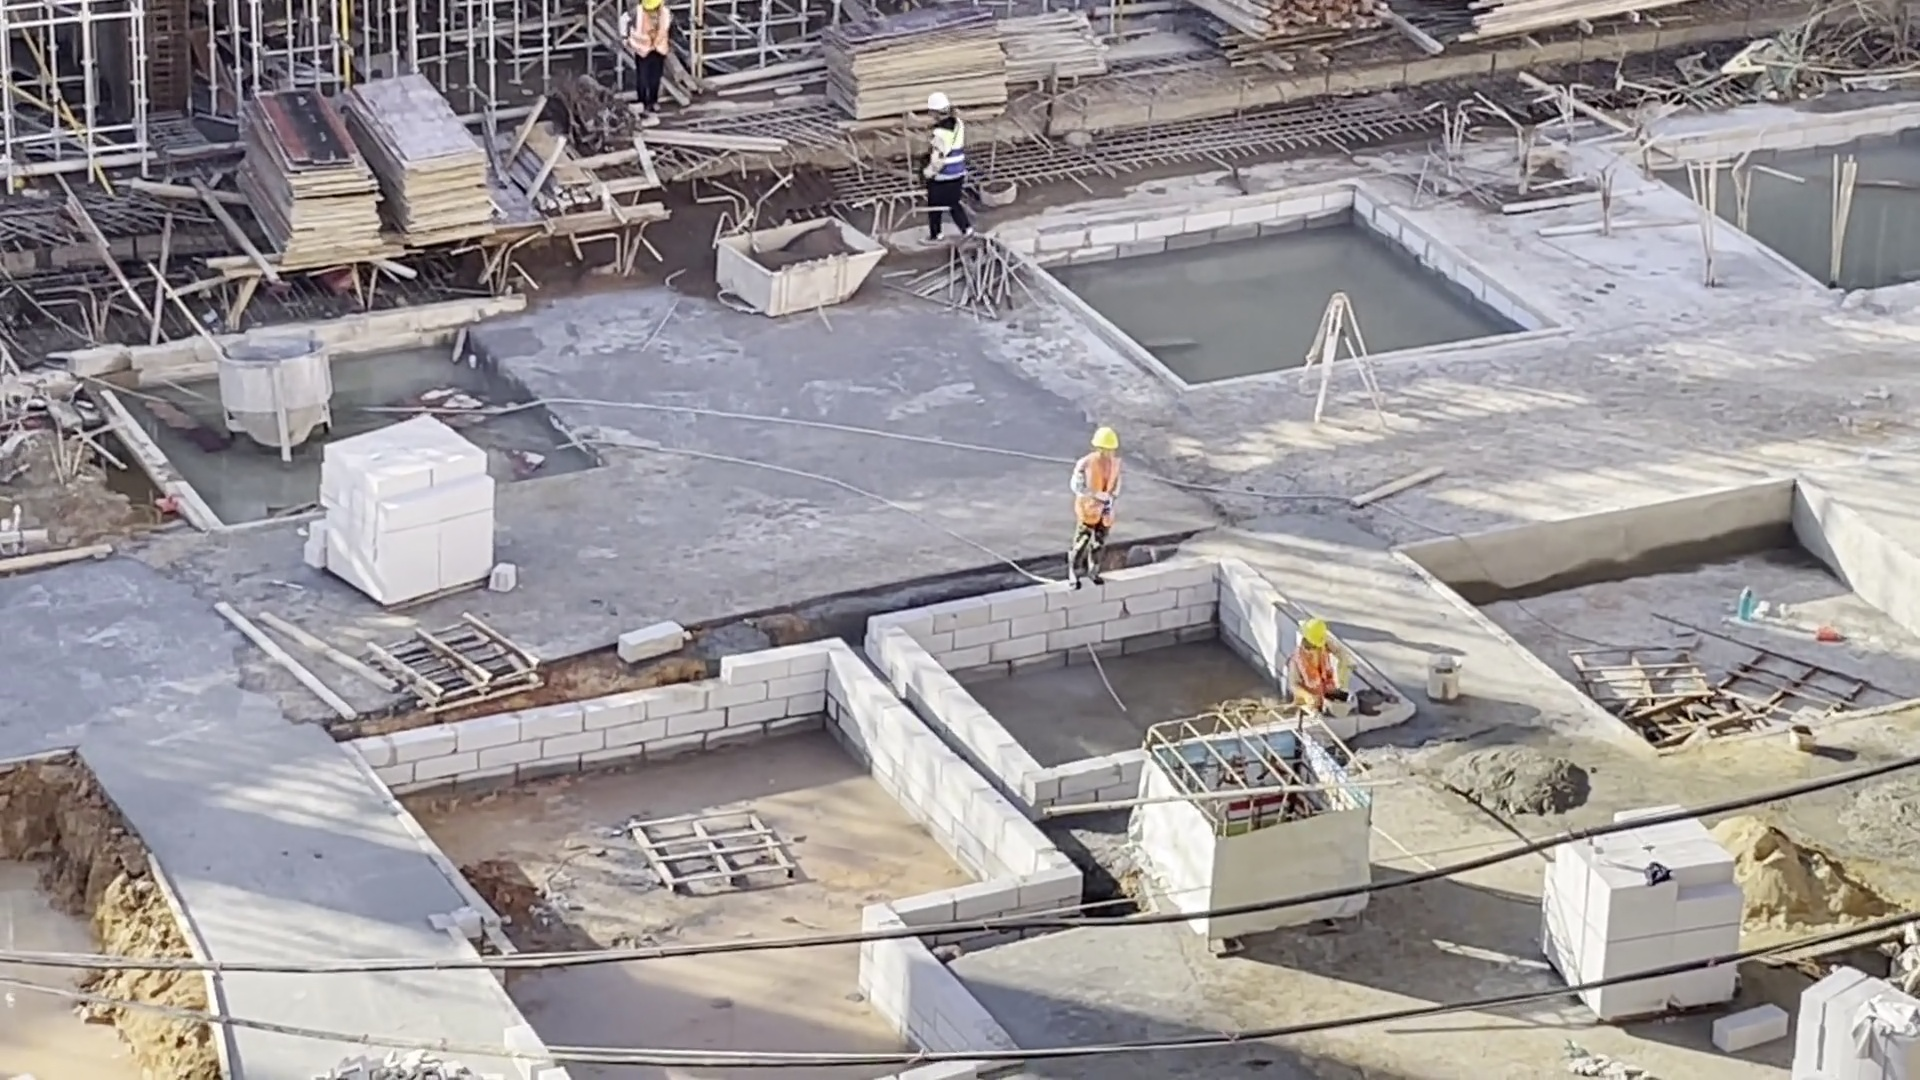board: (232, 85, 388, 269), (348, 71, 504, 253), (825, 12, 1012, 122)
brick: (308, 412, 501, 609), (1534, 856, 1745, 960), (1790, 964, 1920, 1078)
helmet: (1298, 621, 1329, 648), (1089, 426, 1119, 451), (925, 91, 951, 110)
hopper: (714, 217, 893, 320), (211, 331, 337, 471)
person: (912, 90, 981, 244), (1067, 424, 1127, 590), (616, 1, 686, 118), (1284, 617, 1357, 712)
vest: (1074, 451, 1120, 529), (1295, 644, 1341, 699), (633, 2, 672, 58), (932, 121, 966, 185)
wood: (1462, 1, 1697, 39), (1201, 1, 1395, 45)
